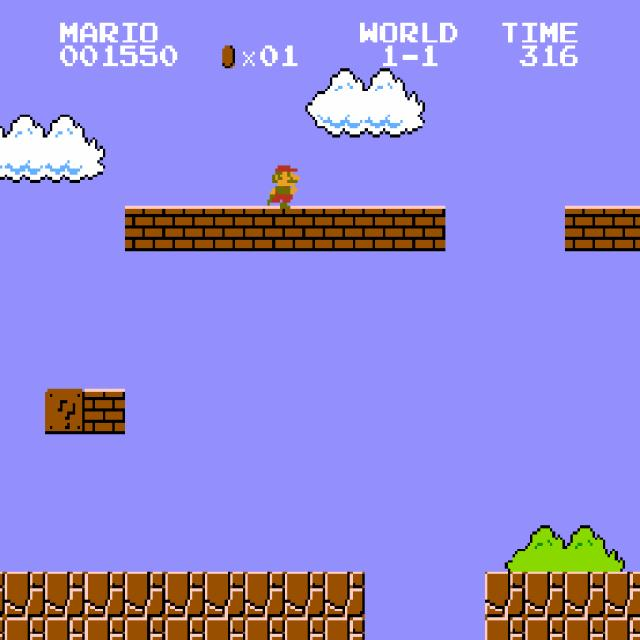brick_block: (85, 389, 125, 434), (125, 206, 165, 251), (165, 206, 205, 251), (205, 206, 245, 251), (245, 206, 285, 251), (285, 206, 325, 251), (325, 206, 365, 251), (365, 206, 405, 251), (405, 206, 445, 251), (565, 206, 605, 251), (605, 206, 640, 251)
little_mario: (260, 160, 302, 208)
mystery_block: (45, 389, 85, 434)
undestructible_block: (5, 572, 45, 617), (45, 572, 85, 617), (85, 572, 125, 617), (125, 572, 165, 617), (165, 572, 205, 617), (205, 572, 245, 617), (245, 572, 285, 617), (285, 572, 325, 617), (325, 572, 365, 617), (485, 572, 525, 617), (525, 572, 565, 617), (565, 572, 605, 617), (605, 572, 640, 617), (5, 617, 45, 640), (45, 617, 85, 640), (85, 617, 125, 640), (125, 617, 165, 640), (165, 617, 205, 640), (205, 617, 245, 640), (245, 617, 285, 640), (285, 617, 325, 640), (325, 617, 365, 640), (485, 617, 525, 640), (525, 617, 565, 640), (565, 617, 605, 640), (605, 617, 640, 640), (0, 572, 5, 617), (0, 617, 5, 640)
